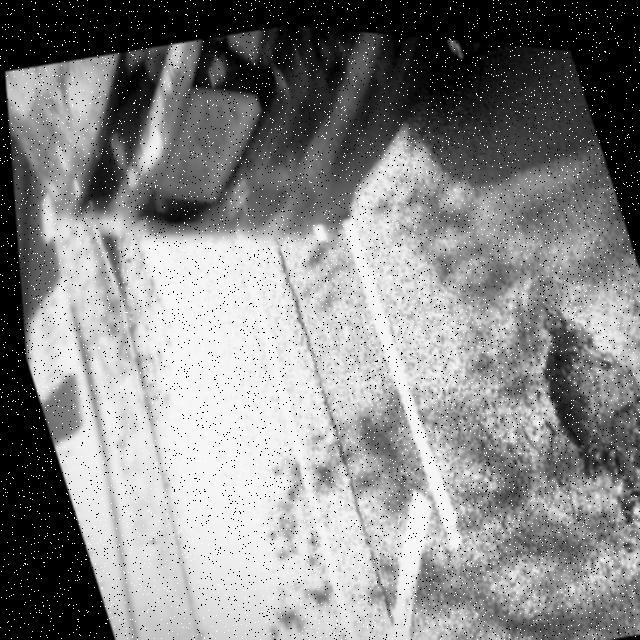pothole: (507, 282, 640, 538)
